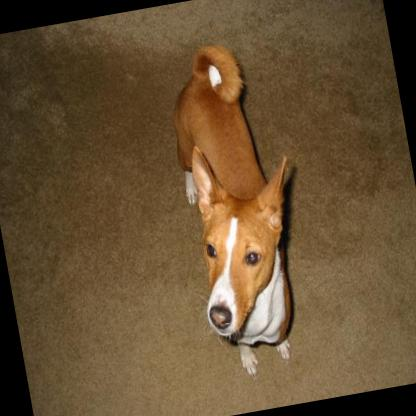basenji: (158, 33, 324, 382)
